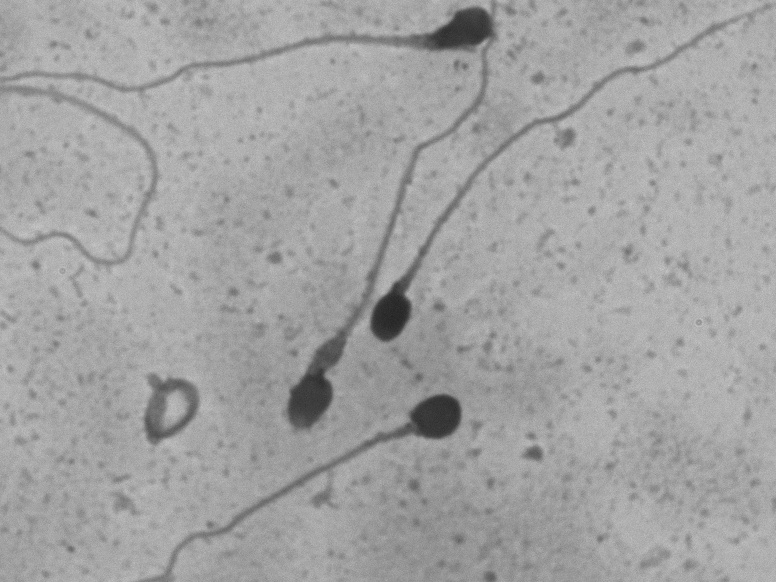Abnormal: (356, 7, 766, 360), (251, 55, 518, 441), (201, 376, 477, 492)
